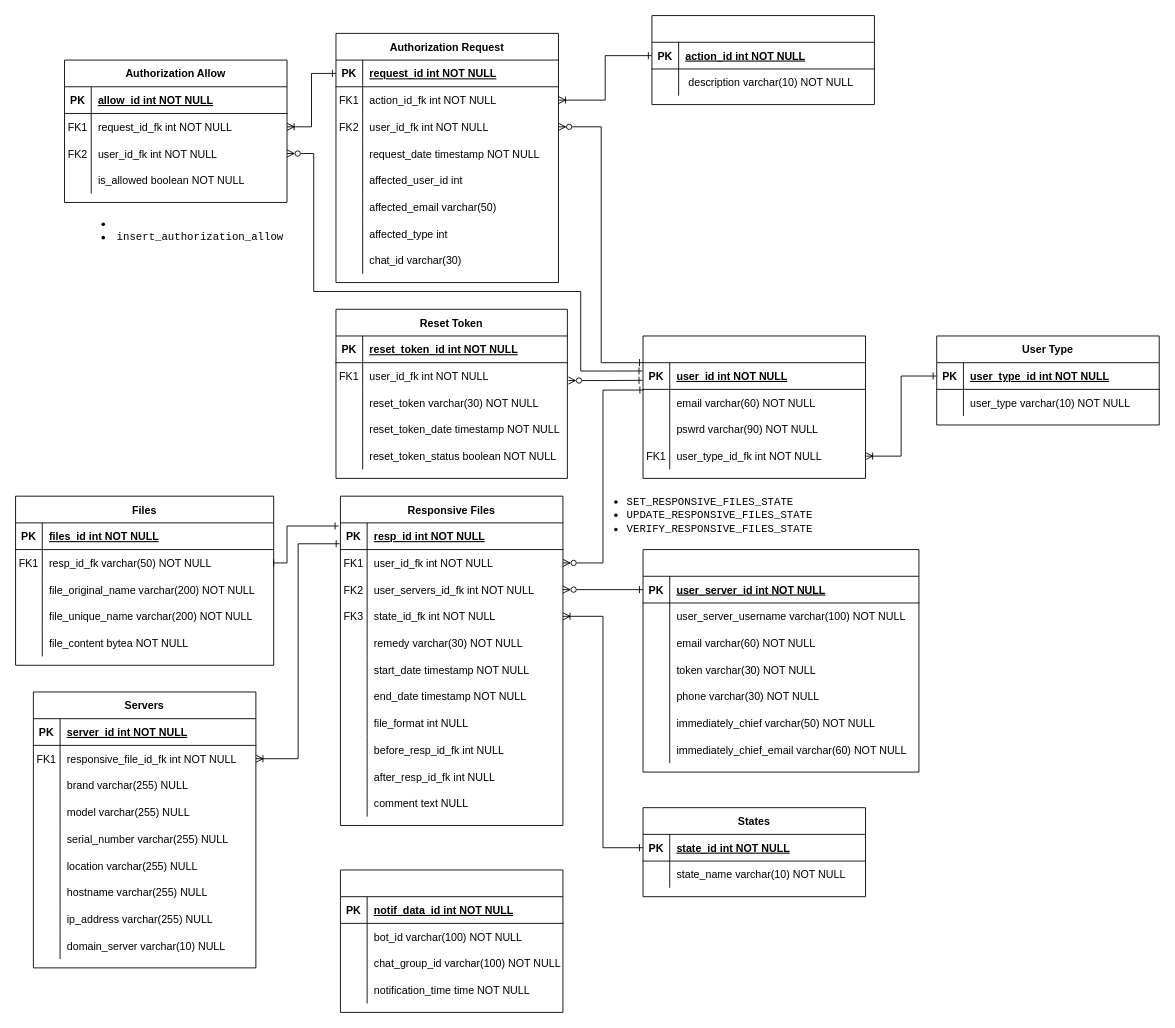
Some shapes in this 1175 by 1028 pixel diagram are drawn without their labels. Here are the shapes that lost their labels. From the top down, the box of each, then its label:
(651, 15, 874, 105): Actions
(642, 335, 866, 478): Users
(642, 549, 919, 772): Users Servers
(340, 869, 563, 1012): Notification Data
